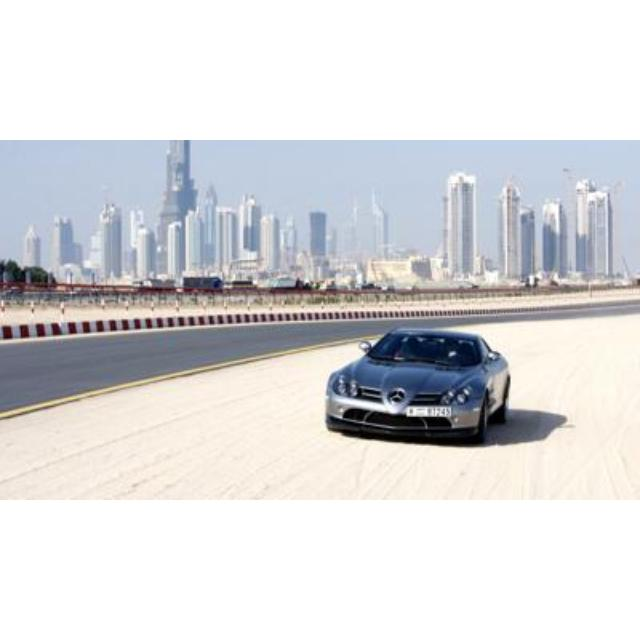car: (324, 329, 512, 443)
plate: (405, 401, 455, 423)
